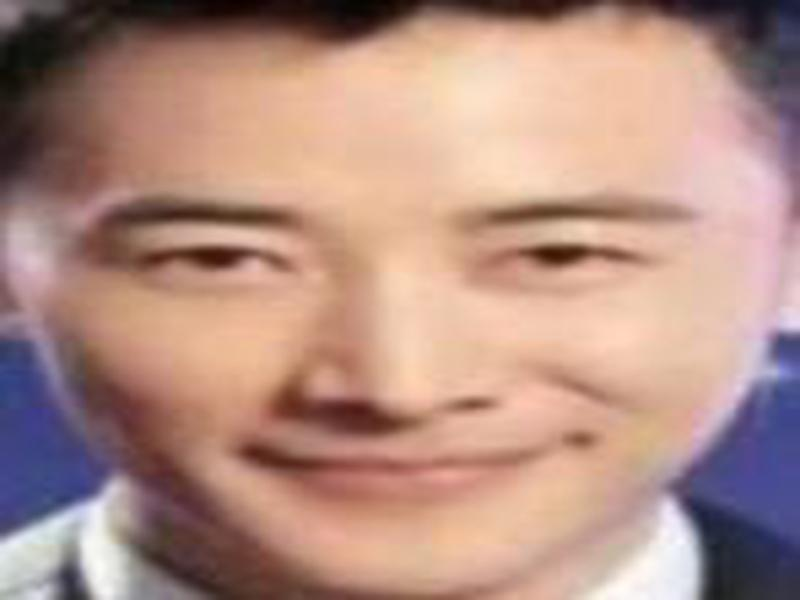without_mask: (16, 42, 765, 589)
